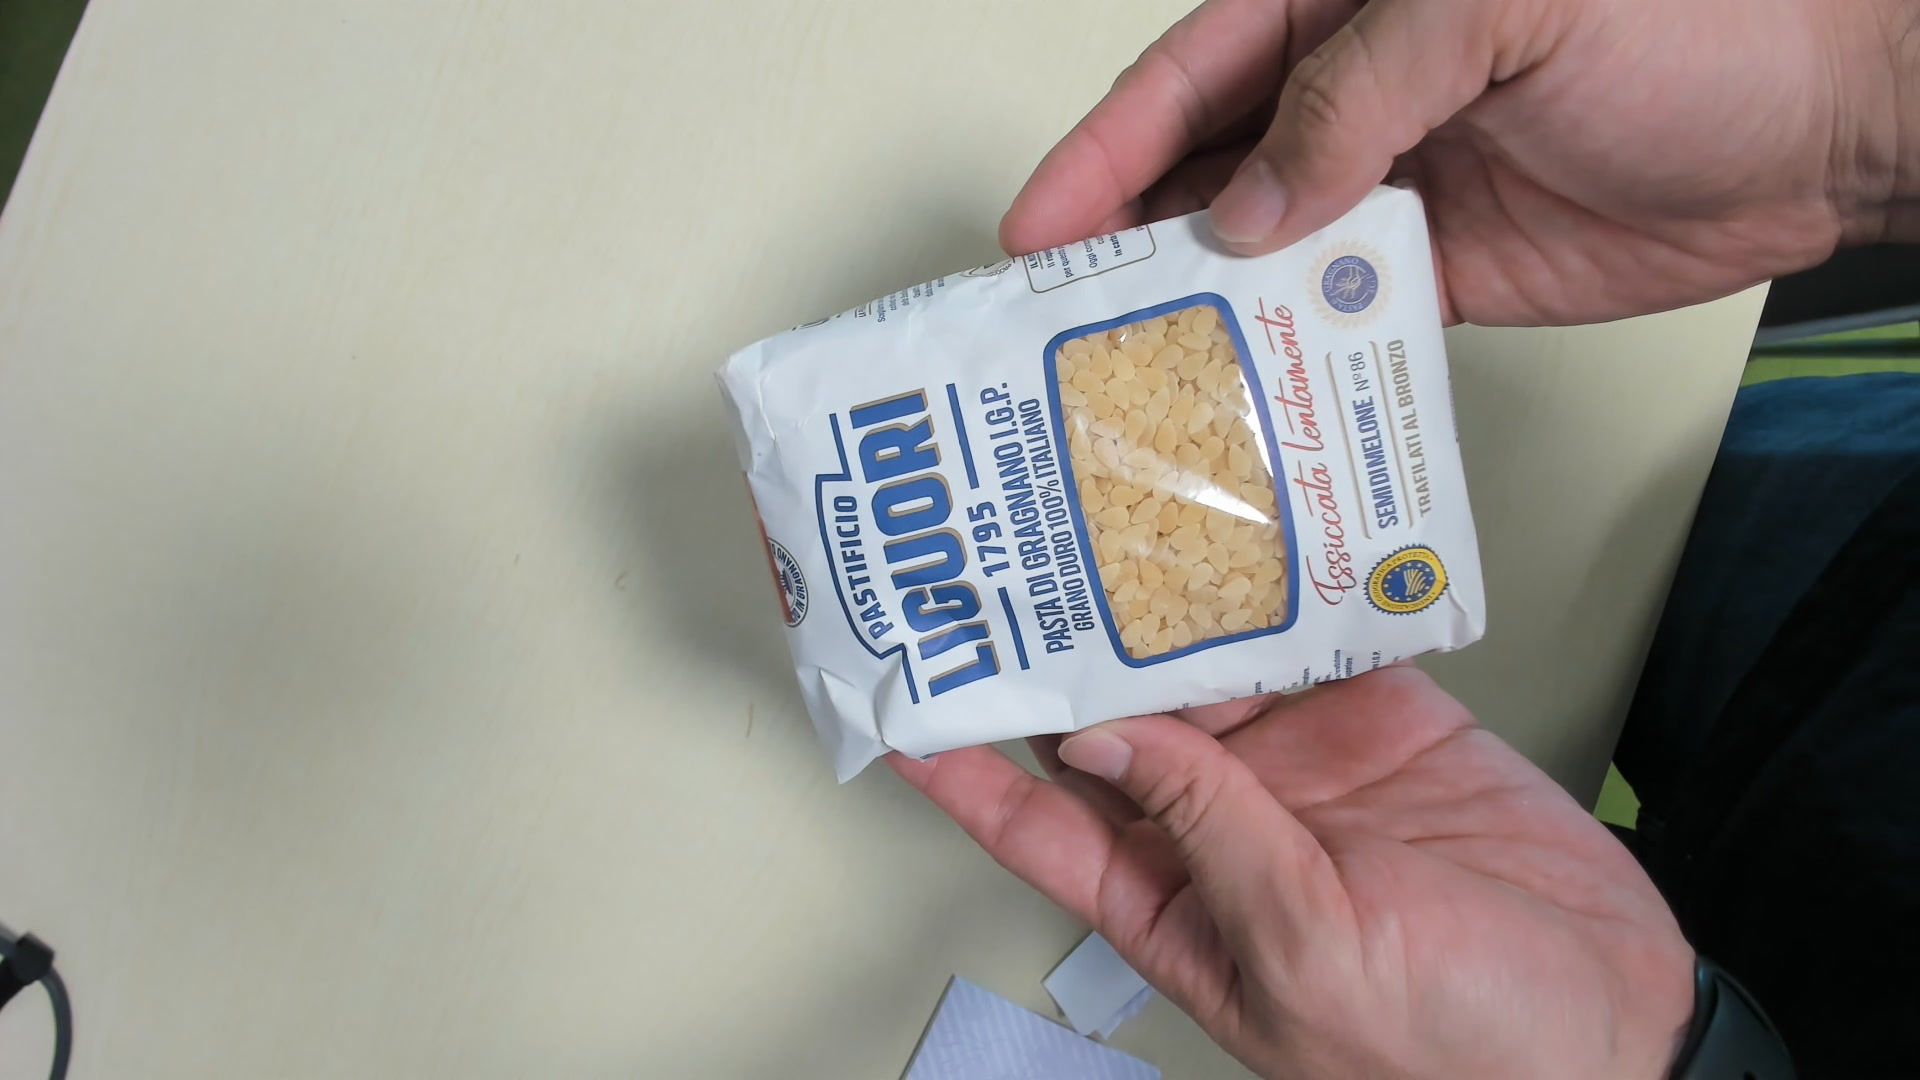Pasta_500-599g_NonHalal_NonHealthy: (713, 178, 1487, 783)
